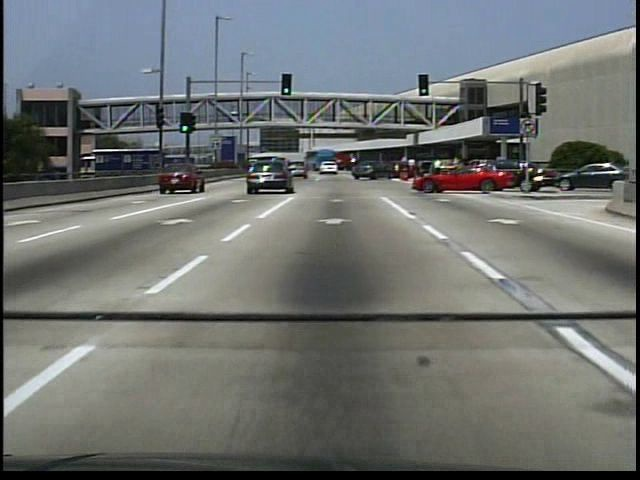person: (408, 159, 418, 182), (434, 160, 442, 178), (229, 113, 237, 128)
